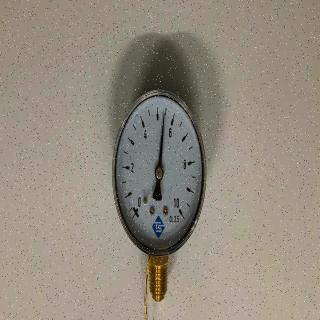gauge: (104, 53, 210, 291), (169, 196, 191, 222), (126, 202, 145, 225), (154, 167, 164, 179), (161, 111, 166, 121)
